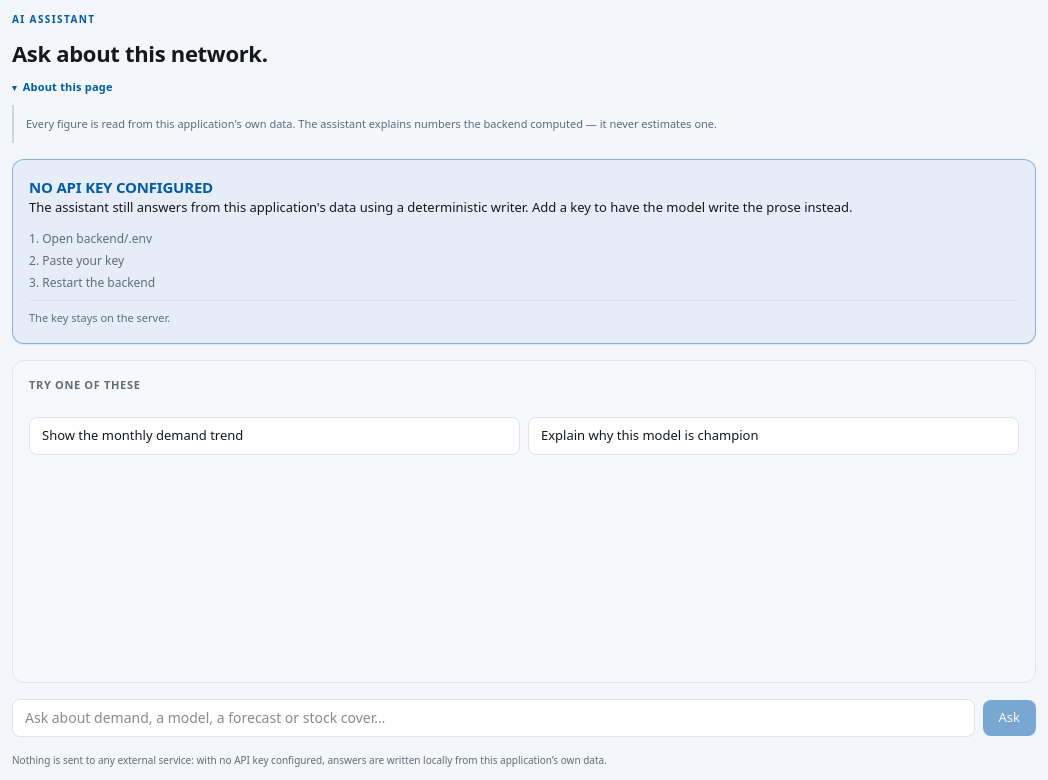
it: AI Assistant › renders a chart only when the backend sent one
Click the button "Show the monthly demand trend": [143, 435] box top-left (29, 417), bottom-right (520, 455)
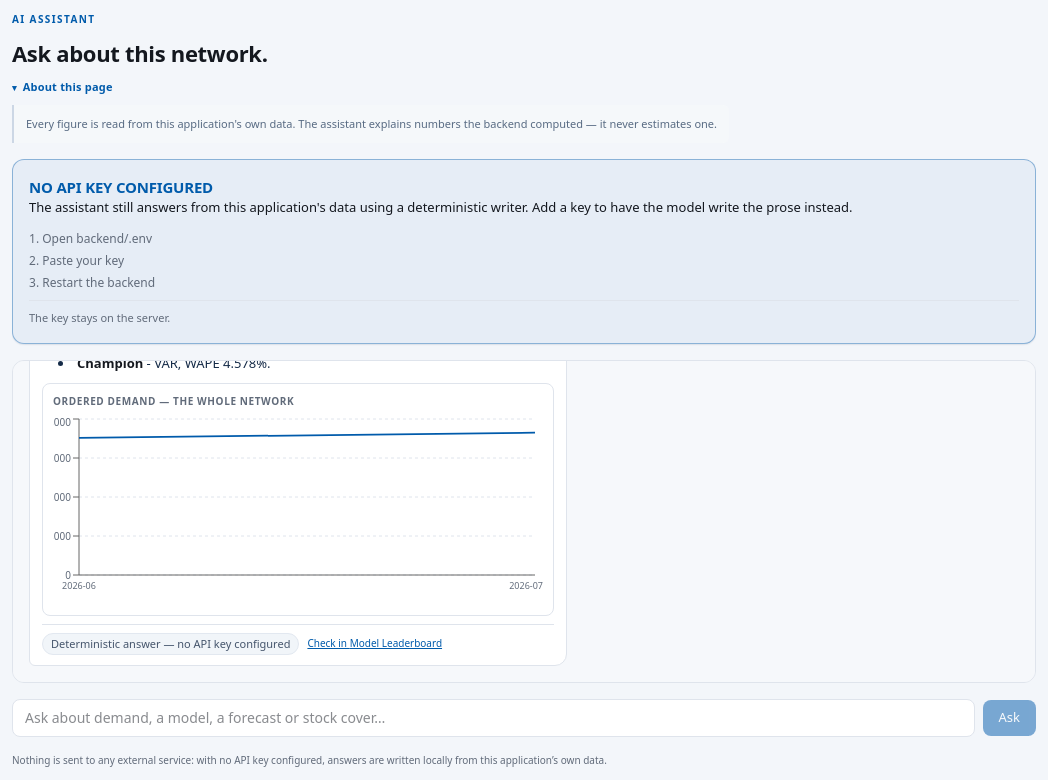
Now the text "Ordered demand — the whole network" is shown, box top-left (53, 394), bottom-right (294, 408)
